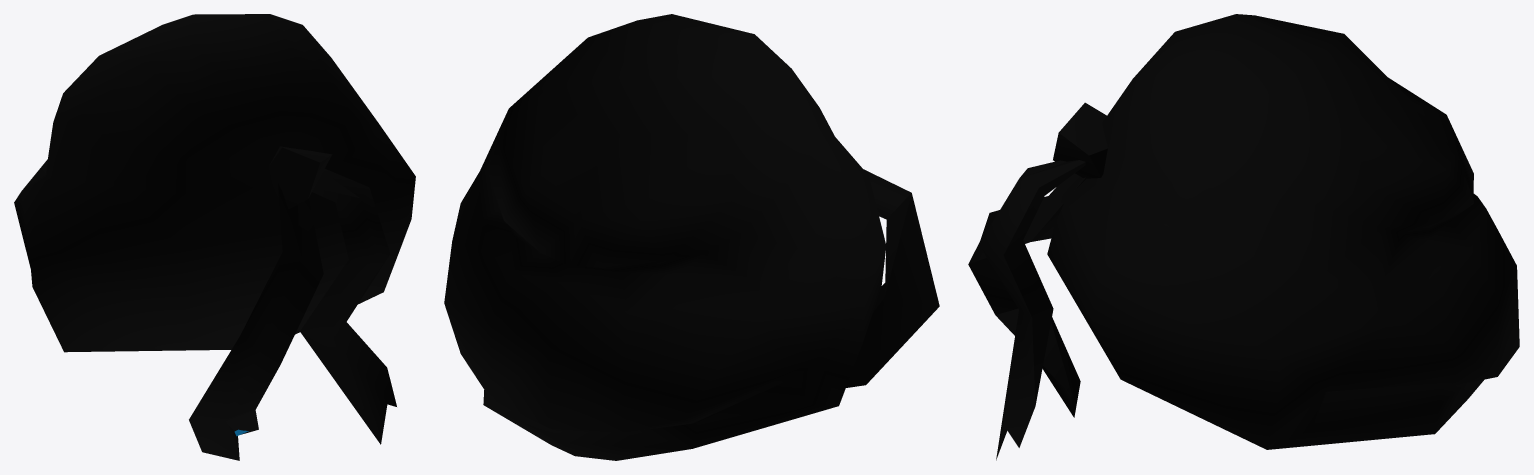
The model's file is tmnt.ico.obj.
3 views of the same model, side by side, from view 1: azimuth 30°, elevation 25°; view 2: azimuth 150°, elevation 25°; view 3: azimuth 270°, elevation 25° (orthographic). The views are drawn at different scales.
Size of the model in its own units: 4.28 by 4.04 by 4.86.
1 material, 1 textured.
